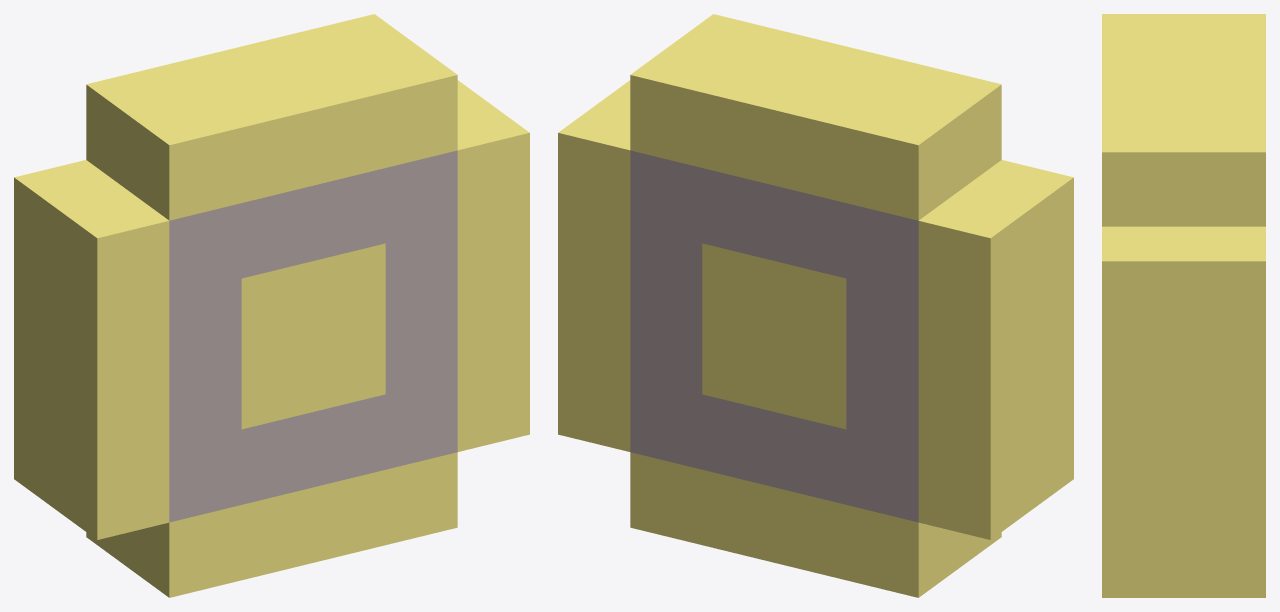
Rendered from coin.obj.
3 renders of one model, left to right at view 1: azimuth 30°, elevation 25°; view 2: azimuth 150°, elevation 25°; view 3: azimuth 270°, elevation 25°, orthographic.
Size of the model in its own units: 0.6 by 0.6 by 0.2.
Materials: 1 (1 with a texture image).
